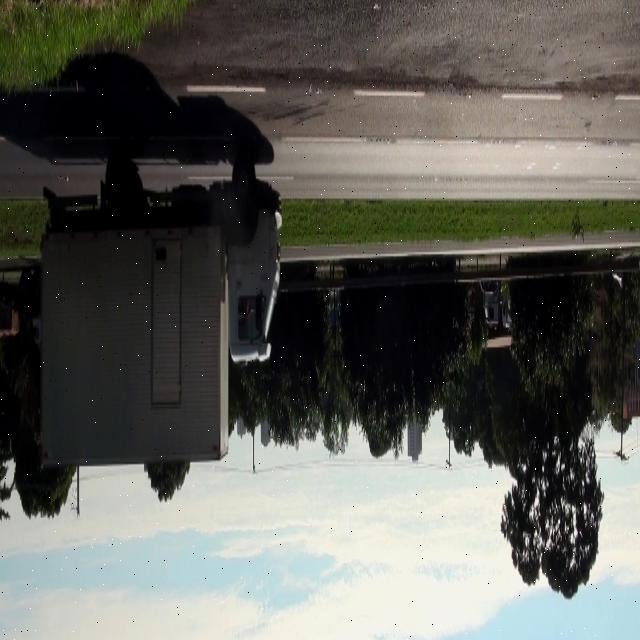-axle: (105, 142, 136, 221), (232, 142, 256, 207)
